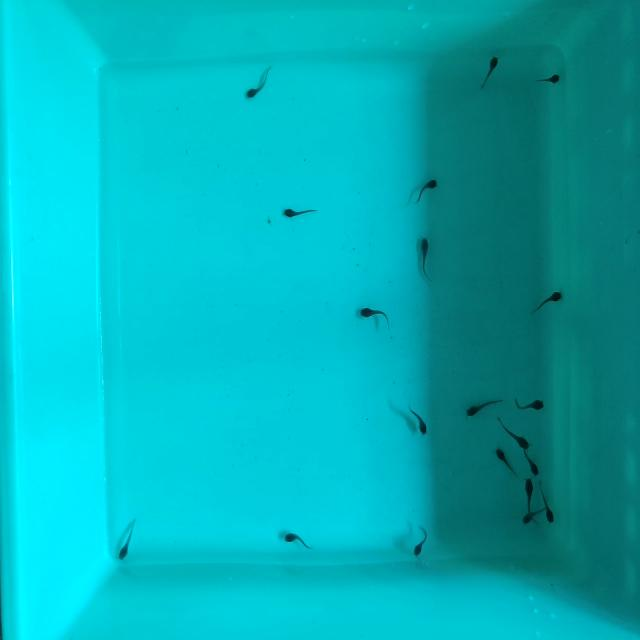lele: (492, 413, 532, 454), (242, 63, 275, 105), (116, 517, 142, 563), (410, 173, 441, 210), (530, 287, 564, 316), (480, 52, 501, 93), (492, 444, 518, 477), (537, 480, 556, 525), (464, 396, 501, 419), (405, 403, 430, 437), (359, 302, 391, 328), (283, 529, 315, 553), (417, 231, 432, 278), (411, 526, 431, 559), (520, 448, 541, 478), (521, 503, 546, 528), (281, 206, 317, 221), (513, 396, 545, 411), (523, 477, 534, 512), (534, 71, 561, 84)
